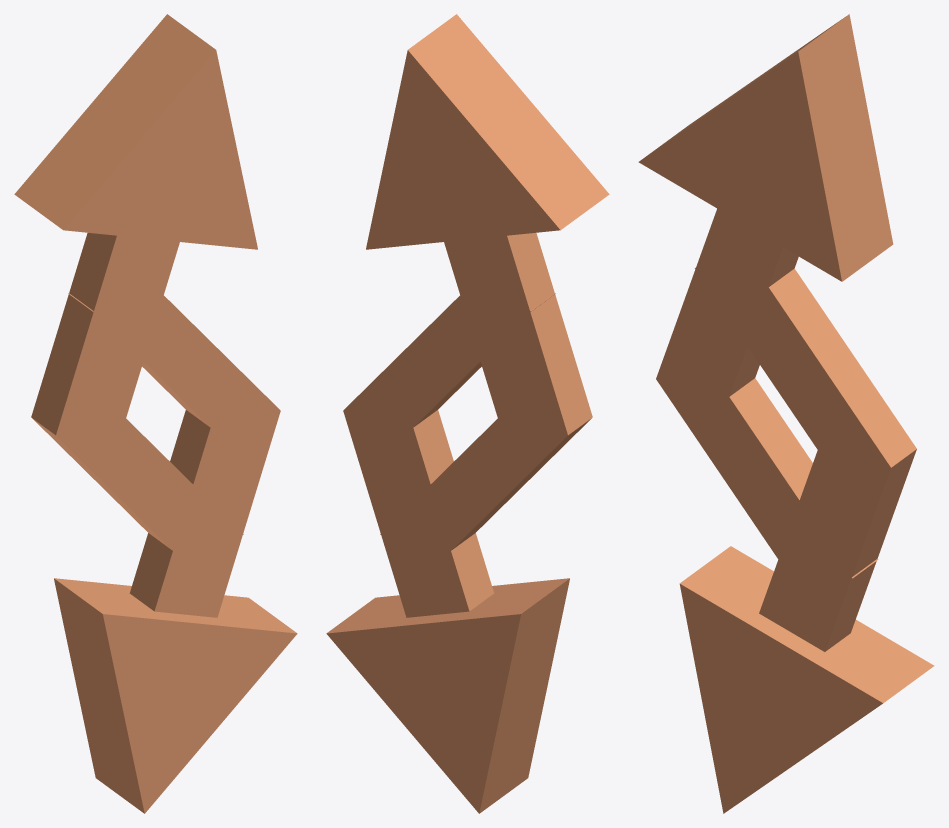
File: reverse.fbx
3 renders of one model, left to right at view 1: azimuth 30°, elevation 25°; view 2: azimuth 150°, elevation 25°; view 3: azimuth 330°, elevation 25°, orthographic. The views are drawn at different scales.
Visible parts, largest first — view 1: Cube.049; view 2: Cube.049; view 3: Cube.049.
Part boxes in pixels (<box>): Cube.049: <box>14,14,297,813</box>; Cube.049: <box>326,14,609,813</box>; Cube.049: <box>638,14,934,813</box>.
Bounding box in the file's own units: 33.65 × 102 × 12.19.
